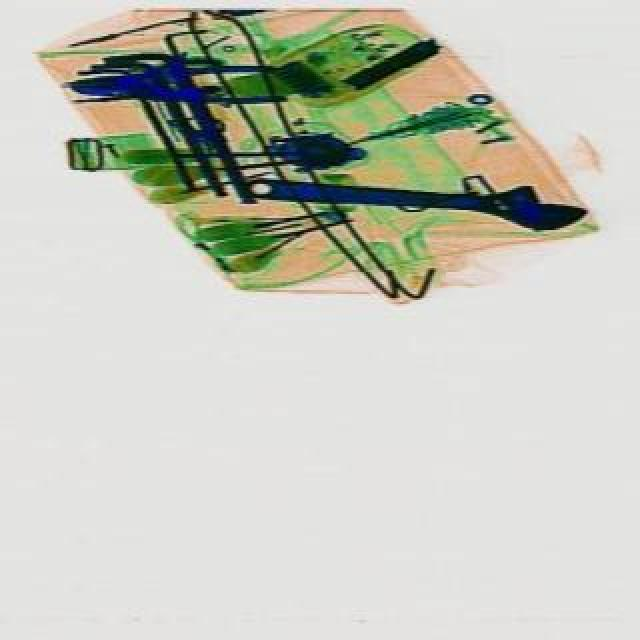scissors: (242, 166, 584, 238)
wrench: (70, 66, 282, 110)
